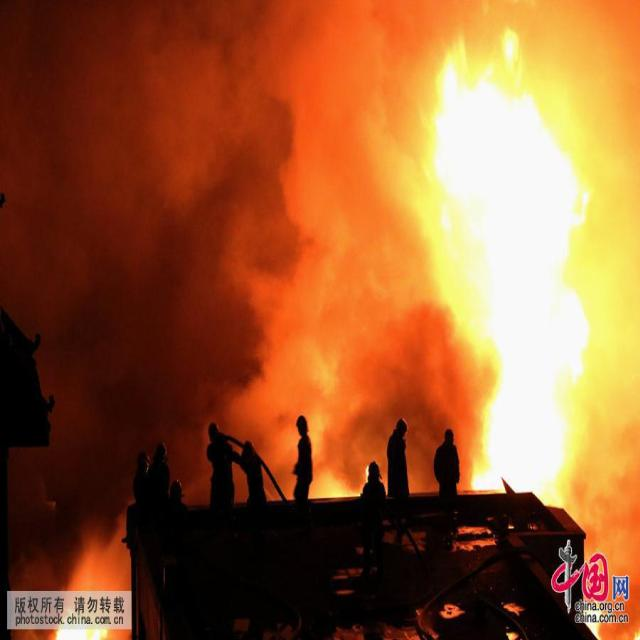fire: (402, 40, 627, 502)
smoke: (2, 4, 274, 494)
